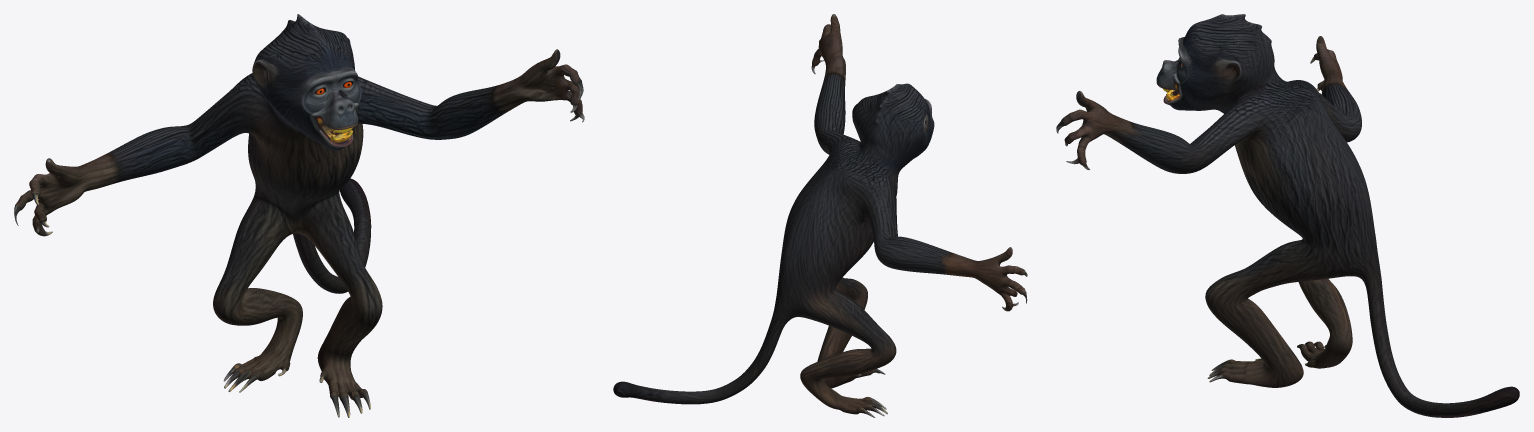
Rendered from monkey_riggable_textured.fbx.
The picture shows the model from 3 angles, left to right: view 1: azimuth 30°, elevation 25°; view 2: azimuth 150°, elevation 25°; view 3: azimuth 270°, elevation 25°; orthographic projection. The views are drawn at different scales.
Parts seen in each view (by area): view 1: Mesh_0; view 2: Mesh_0; view 3: Mesh_0.
Boxes of the visible parts, x1,y1,x2,y2 form: Mesh_0: (14,14,584,417); Mesh_0: (613,14,1027,417); Mesh_0: (1056,14,1519,417).
Size of the model in its own units: 185 by 158 by 190.
Materials: 1 (1 with a texture image).
